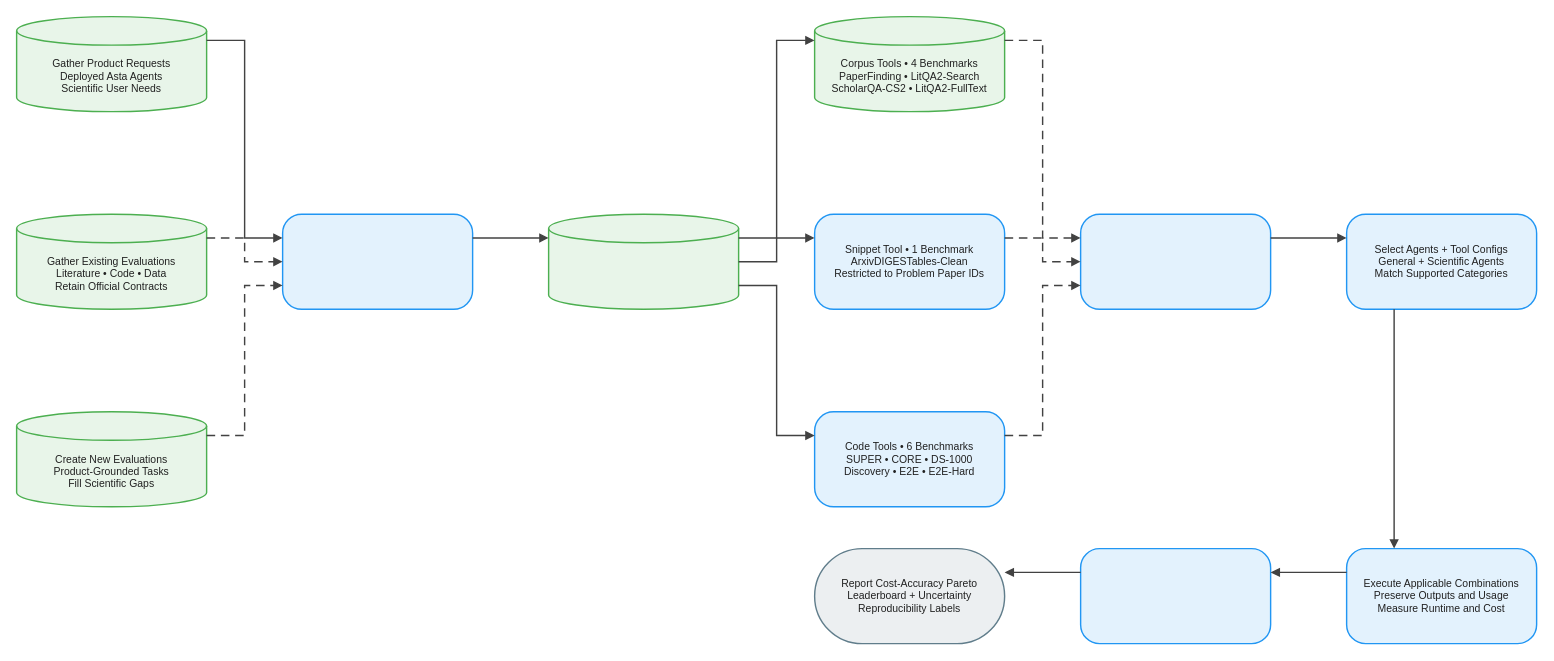
This 1554x661 diagram has some shape labels left out. Here are the shapes that lost their labels. From the top down, the box of each, then its label:
(281, 213, 473, 310): Adapt or Filter Sources Ensure Tool Answerability Apply Evidence Cutoffs
(547, 213, 739, 310): Package 11 Benchmarks 2,404 Validation + Test Items Uniform Task Interfaces
(1079, 213, 1271, 310): Register Tasks in Inspect Use Each Listed Tool Binding Preserve Task Contracts
(1079, 547, 1271, 644): Compute Scores and Cost Task-Specific Accuracy Frozen Price Accounting
